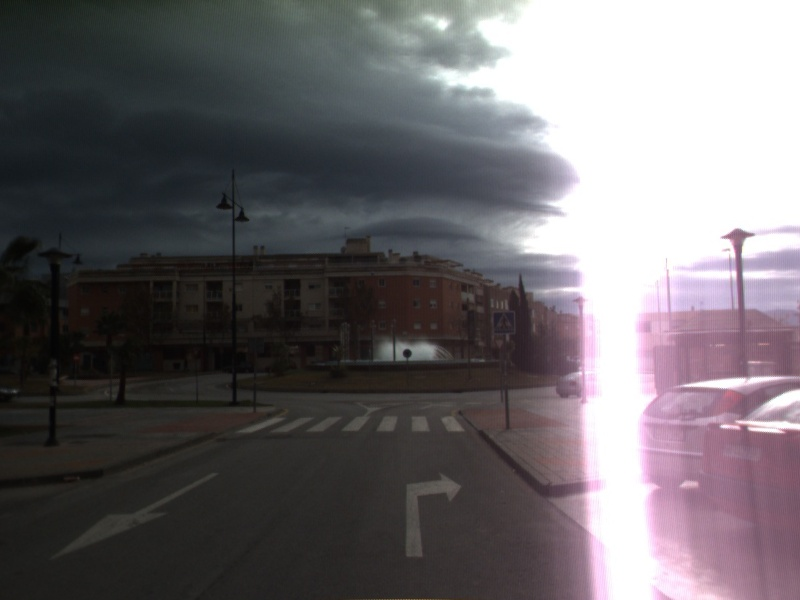RIGHT: (403, 469, 465, 559)
